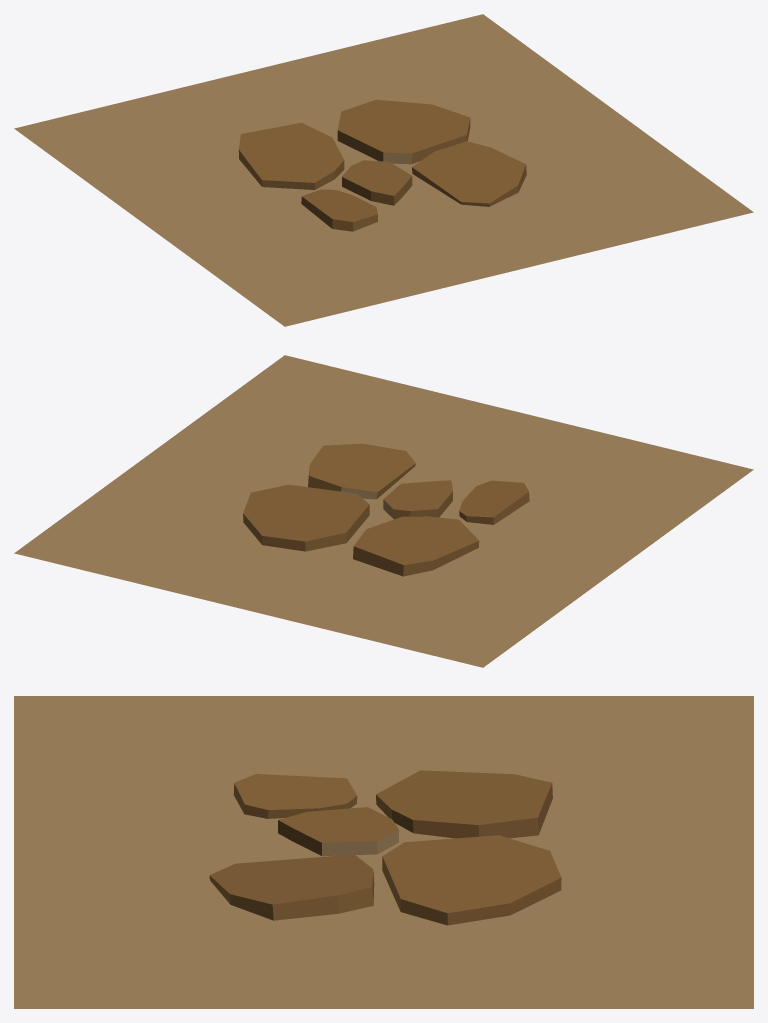
File: Floor3MD.fbx
The picture shows the model from 3 angles, top to bottom: view 1: azimuth 30°, elevation 25°; view 2: azimuth 150°, elevation 25°; view 3: azimuth 270°, elevation 25°; orthographic projection. The views are drawn at different scales.
Visible parts, largest first — view 1: Plane.002; view 2: Plane.002; view 3: Plane.002.
Part boxes in pixels (bbox=[...]): Plane.002: bbox=[14, 14, 753, 326]; Plane.002: bbox=[14, 355, 753, 667]; Plane.002: bbox=[14, 696, 753, 1008].
Size of the model in its own units: 400 by 24.31 by 400.
